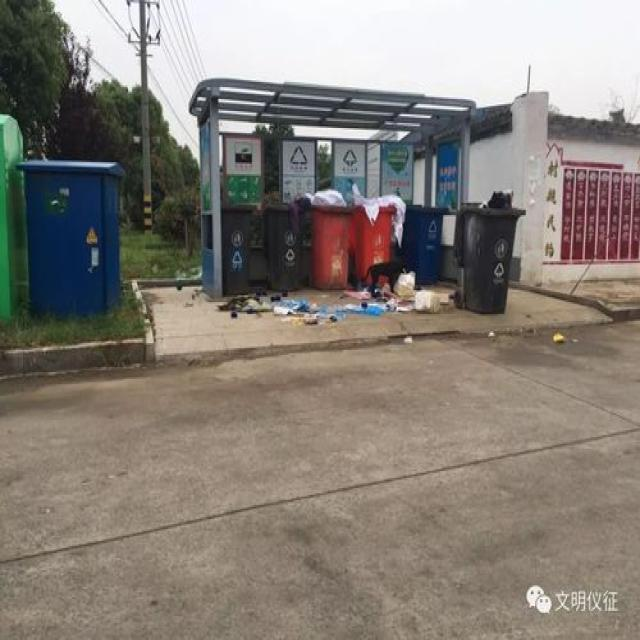garbage: (216, 270, 453, 324)
garbage_bin: (402, 203, 444, 282), (219, 203, 255, 292)
overflow: (453, 190, 525, 312), (351, 183, 402, 285), (310, 189, 350, 287), (262, 193, 302, 288)
